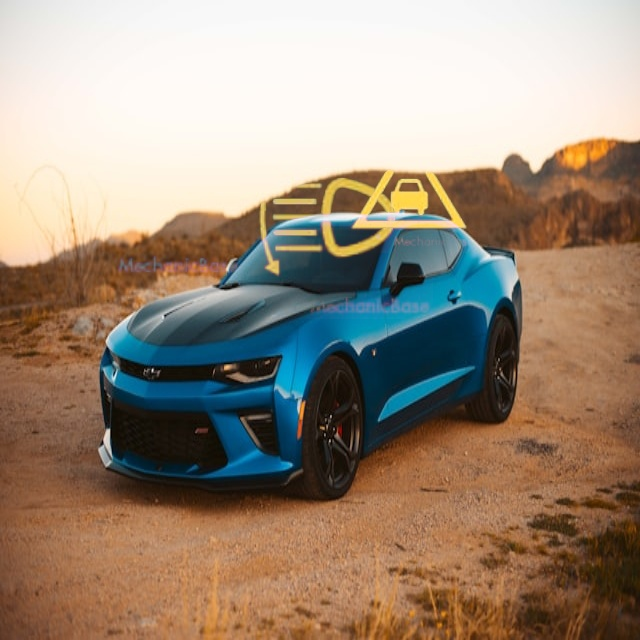symbol: (36, 73, 246, 283), (225, 111, 433, 319), (47, 67, 239, 259), (339, 113, 479, 253)
